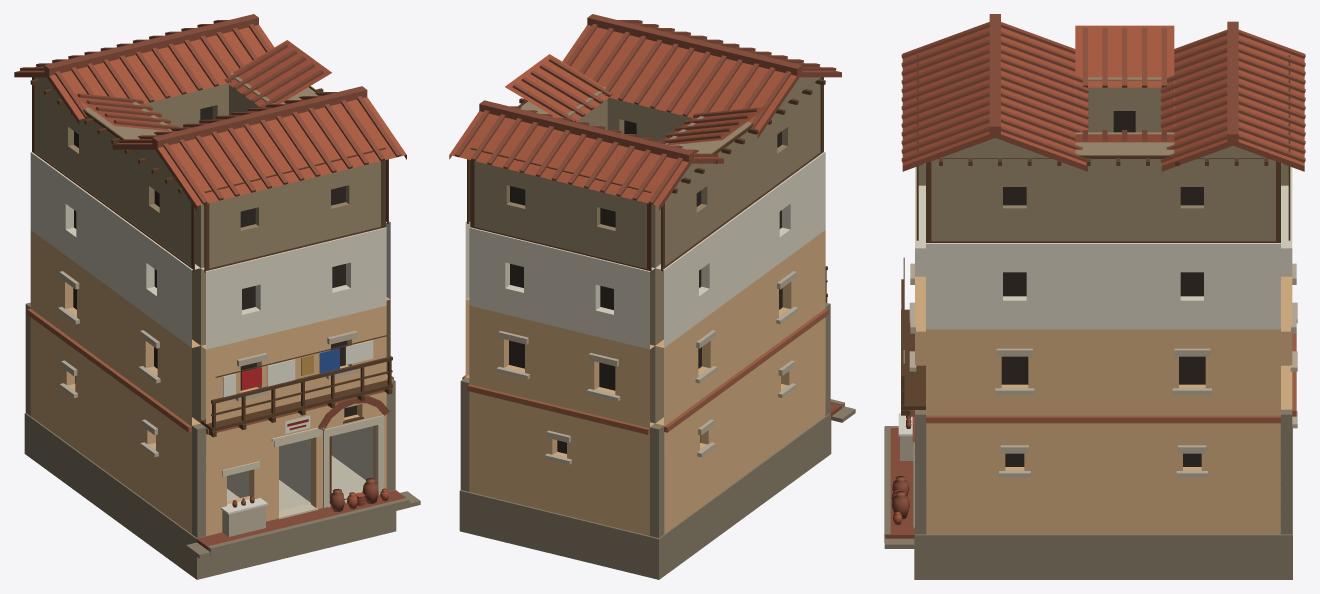
File: rome_insula_r.glb
The picture shows the model from 3 angles, left to right: view 1: azimuth 30°, elevation 25°; view 2: azimuth 150°, elevation 25°; view 3: azimuth 270°, elevation 25°; orthographic projection. The views are drawn at different scales.
Visible parts, largest first — view 1: rome_insula_r; view 2: rome_insula_r; view 3: rome_insula_r.
Part boxes in pixels (x1=…): rome_insula_r: x1=14, y1=14, x2=420, y2=579; rome_insula_r: x1=449, y1=14, x2=855, y2=579; rome_insula_r: x1=884, y1=14, x2=1305, y2=579.
Size of the model in its own units: 8.94 by 16.03 by 13.41.
